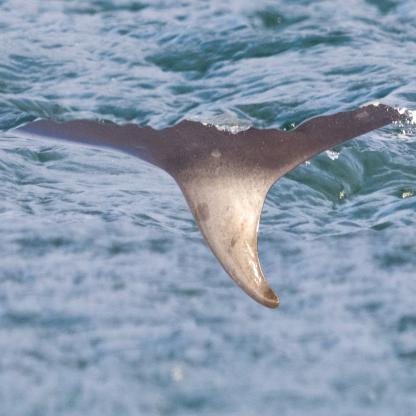dolphin-whale: (8, 103, 408, 309)
